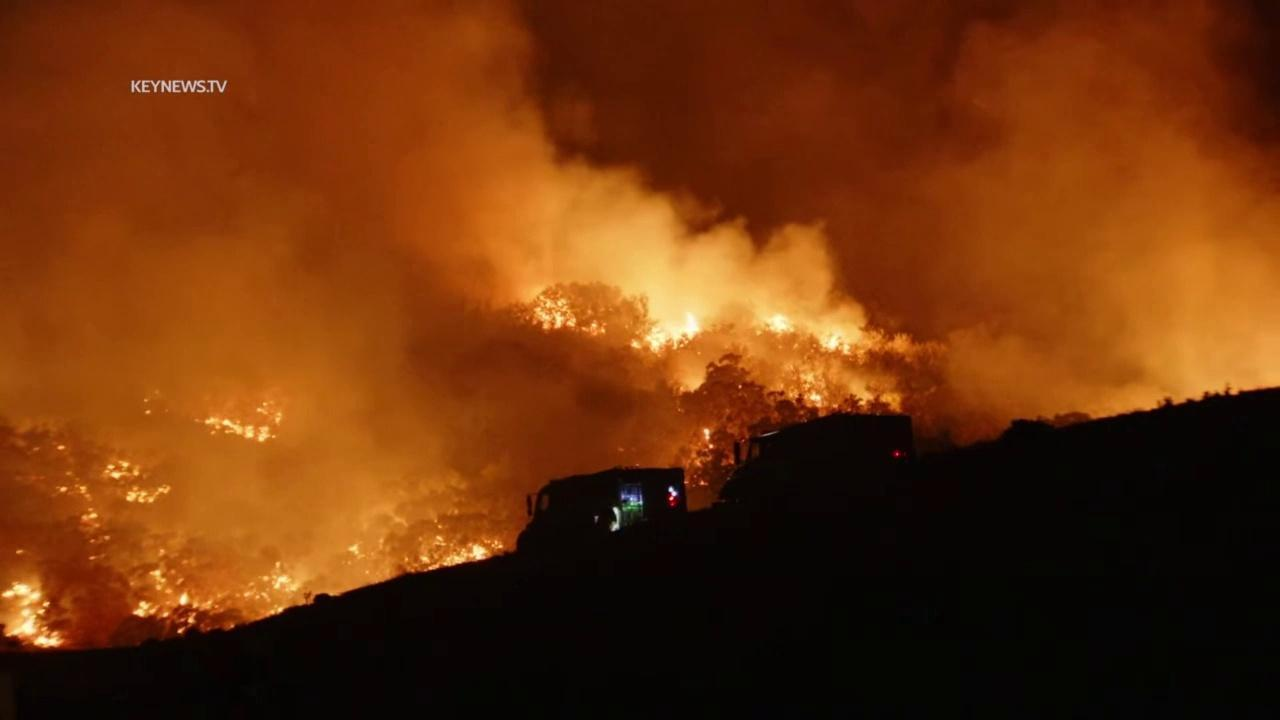fire: (0, 577, 67, 650), (527, 284, 608, 334), (194, 400, 284, 443), (415, 534, 504, 572), (626, 311, 706, 351), (258, 560, 301, 593), (816, 327, 858, 357), (123, 484, 173, 504), (100, 458, 142, 480), (760, 312, 799, 335), (53, 483, 96, 503), (131, 598, 162, 618), (148, 568, 168, 592), (804, 388, 826, 409), (701, 426, 716, 450), (79, 505, 100, 521), (268, 604, 286, 616), (346, 543, 362, 556), (178, 590, 189, 607), (186, 611, 198, 625), (176, 624, 188, 634), (159, 612, 172, 620), (697, 479, 710, 487), (736, 382, 743, 390)
smoke: (0, 0, 1280, 660)
